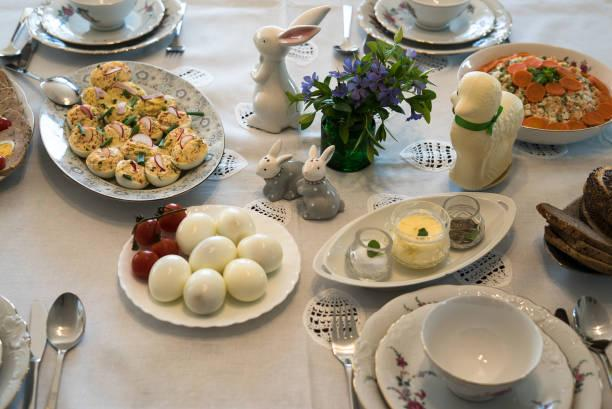Braised Crucian Carp: (37, 59, 222, 199), (115, 202, 293, 326), (311, 192, 514, 289), (458, 43, 610, 148)
